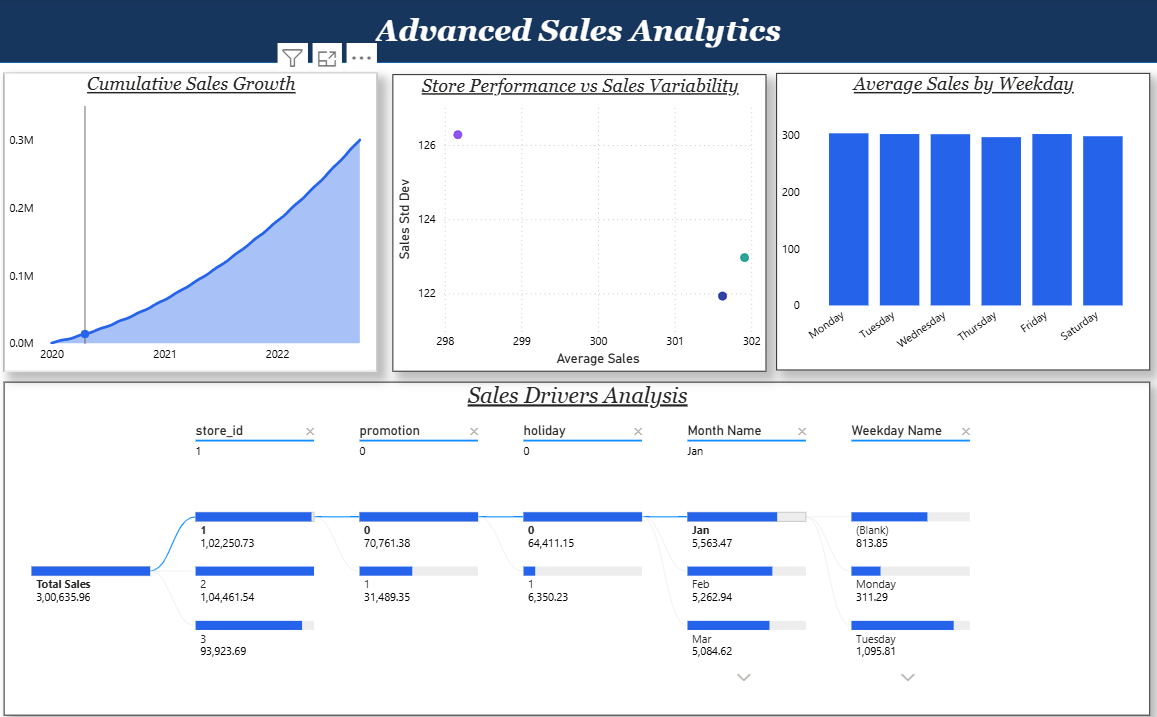

This screenshot's page, from the dashboard's own definition file:
{"tool":"powerbi","page":{"name":"Page 2","canvas":[1280,800],"ordinal":1},"visuals":[{"type":"shape","box":[0,0,1280.3,71.4],"z":0},{"type":"decompositionTreeVisual","title":"Sales Drivers Analysis","fields":{"ExplainBy":["sales_forecasting_data.store_id","sales_forecasting_data.promotion","sales_forecasting_data.holiday","sales_forecasting_data.Month Name","sales_forecasting_data.Weekday Name"],"Analyze":["Measure Table.Total Sales"]},"box":[9.6,421.3,1258.3,366.4],"z":1000},{"type":"areaChart","title":"Cumulative Sales Growth","fields":{"Y":["Measure Table.Cumulative Sales"],"Category":["sales_forecasting_data.date"]},"box":[9.6,82.3,410.3,328],"z":2000},{"type":"scatterChart","title":"Store Performance vs Sales Variability","fields":{"Y":["Measure Table.Sales Std Dev"],"Category":["sales_forecasting_data.store_id"],"X":["Measure Table.Average Sales"]},"box":[436.4,83.7,410.3,326.6],"z":3000},{"type":"clusteredColumnChart","title":"Average Sales by Weekday","fields":{"Y":["Measure Table.Average Sales"],"Category":["sales_forecasting_data.Weekday Name"]},"box":[857.6,82.3,410.3,326.6],"z":3001}]}

Visuals, with their boxes in screenshot pixels (x1, y1, x2, y2):
shape: left=0, top=0, right=1156, bottom=56
"Sales Drivers Analysis" decompositionTreeVisual: left=0, top=377, right=1150, bottom=713
"Cumulative Sales Growth" areaChart: left=0, top=66, right=373, bottom=367
"Store Performance vs Sales Variability" scatterChart: left=388, top=68, right=764, bottom=367
"Average Sales by Weekday" clusteredColumnChart: left=774, top=66, right=1150, bottom=366
